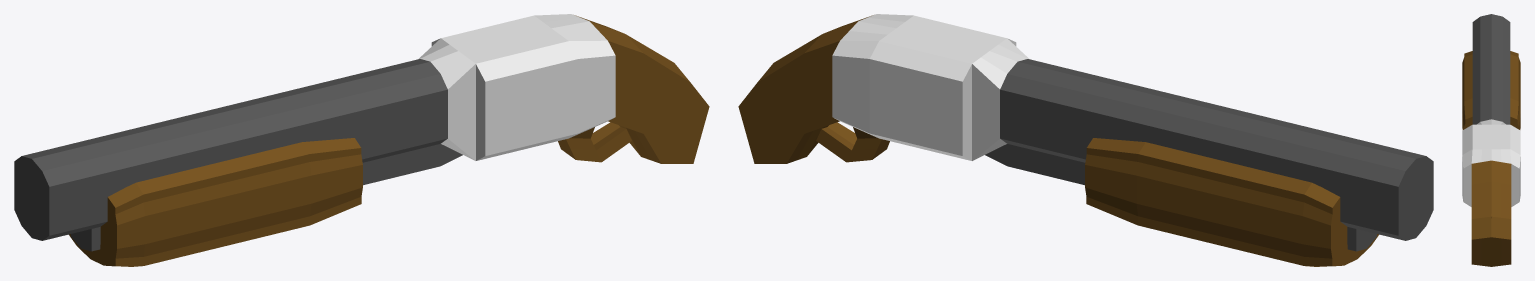
File: shotgun.fbx
3 views of the same model, side by side, from view 1: azimuth 30°, elevation 25°; view 2: azimuth 150°, elevation 25°; view 3: azimuth 270°, elevation 25° (orthographic). The views are drawn at different scales.
Parts seen in each view (by area): view 1: Shotgun, Pump; view 2: Shotgun, Pump; view 3: Shotgun, Pump.
Boxes of the visible parts, x1=… form: Shotgun: x1=14, y1=14, x2=709, y2=251; Pump: x1=69, y1=138, x2=362, y2=266; Shotgun: x1=738, y1=14, x2=1433, y2=251; Pump: x1=1085, y1=138, x2=1378, y2=266; Shotgun: x1=1462, y1=14, x2=1520, y2=266; Pump: x1=1462, y1=51, x2=1520, y2=129.
Bounding box in the file's own units: 1422 × 325 × 200.
